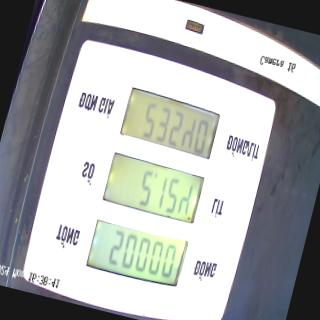screen: (82, 80, 224, 296)
